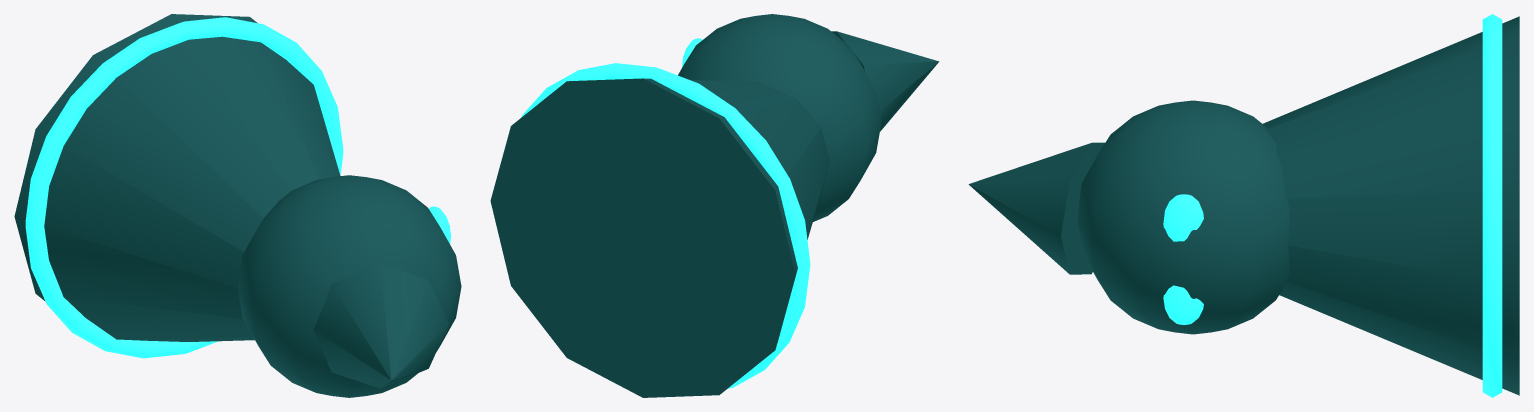
The model's file is trauma-kontrola.glb.
3 renders of one model, left to right at view 1: azimuth 30°, elevation 25°; view 2: azimuth 150°, elevation 25°; view 3: azimuth 270°, elevation 25°, orthographic. The views are drawn at different scales.
Visible parts, largest first — view 1: Shadow, Glow; view 2: Shadow, Glow; view 3: Shadow, Glow.
Boxes of the visible parts, x1=… form: Shadow: x1=14, y1=14, x2=461, y2=397; Glow: x1=25, y1=17, x2=450, y2=358; Shadow: x1=490, y1=14, x2=939, y2=397; Glow: x1=521, y1=38, x2=810, y2=388; Shadow: x1=968, y1=16, x2=1519, y2=395; Glow: x1=1163, y1=14, x2=1502, y2=397.
Bounding box in the file's own units: 0.85 × 0.85 × 1.22.
